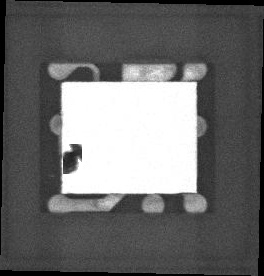DIE_INK: (60, 151, 77, 181)
